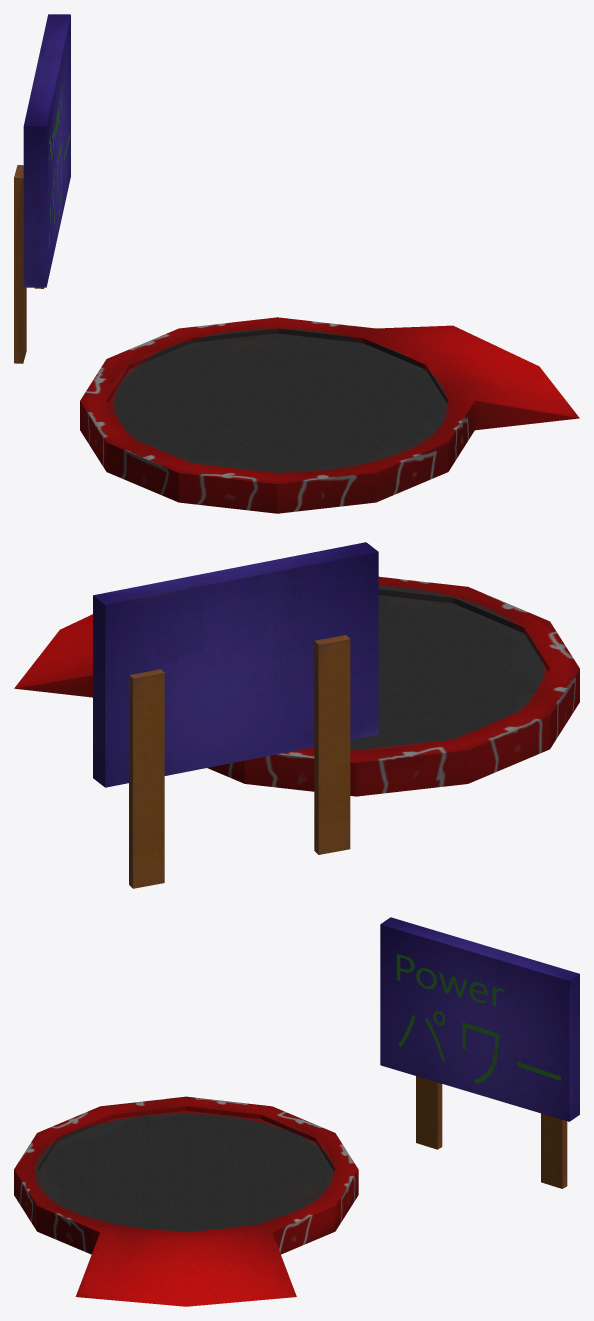
The model's file is Power.fbx.
3 renders of one model, top to bottom at view 1: azimuth 30°, elevation 25°; view 2: azimuth 150°, elevation 25°; view 3: azimuth 270°, elevation 25°, orthographic. The views are drawn at different scales.
Parts seen in each view (by area): view 1: polySurface8; view 2: polySurface8; view 3: polySurface8.
Boxes of the visible parts, x1,y1,x2,y2 form: polySurface8: (14, 14, 579, 513); polySurface8: (14, 542, 579, 888); polySurface8: (14, 917, 579, 1306).
Size of the model in its own units: 6.93 by 3.85 by 8.99.
Materials: 1 (1 with a texture image).
